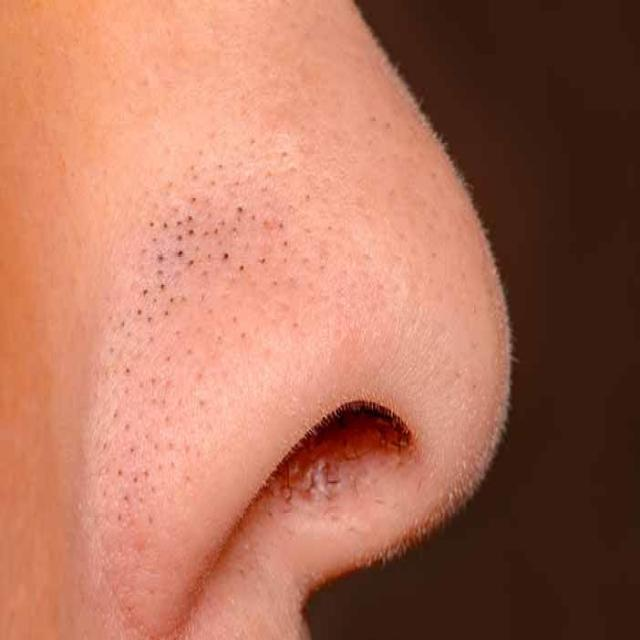Acne: (89, 140, 514, 530)
